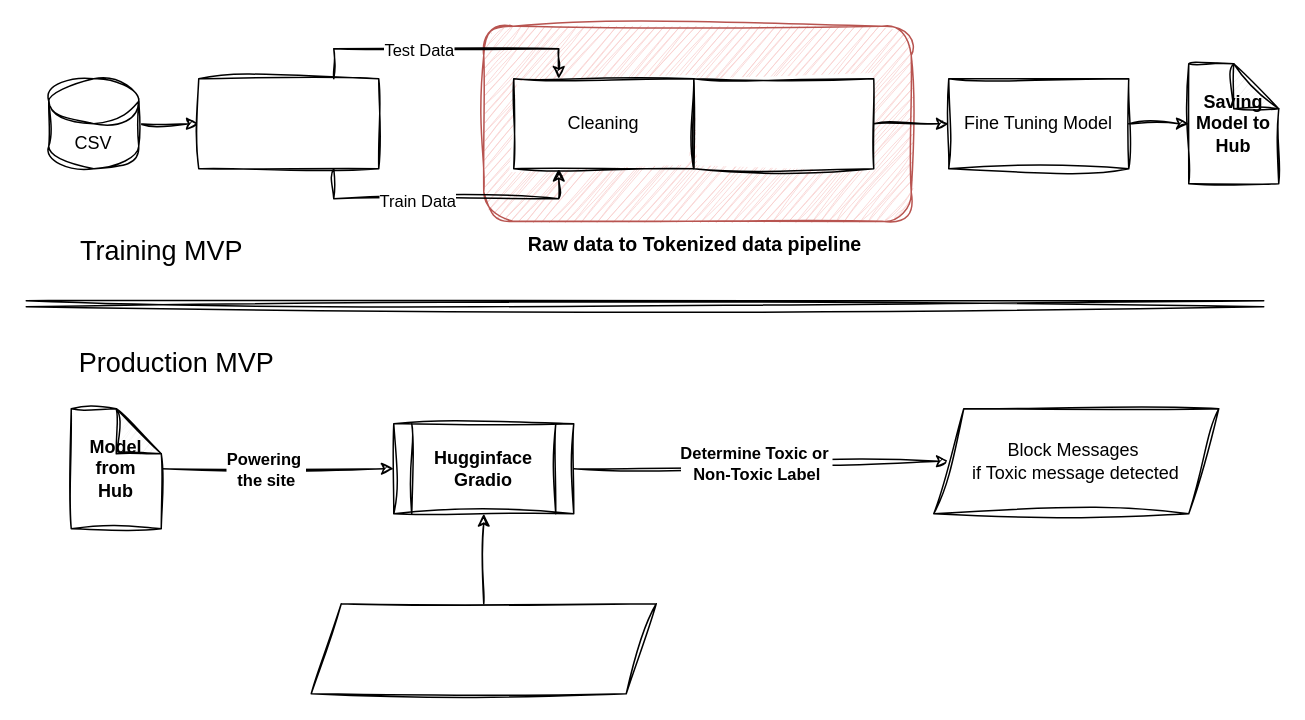
Image size: 1305x720. Some labels were removed from this diagram. The centre of each missing label's shape, as x and y in pixels:
"Tokenizing" belongs at (x=783, y=123).
"Train Test Split" belongs at (x=288, y=123).
"User typing sentences into the app" belongs at (x=483, y=648).
